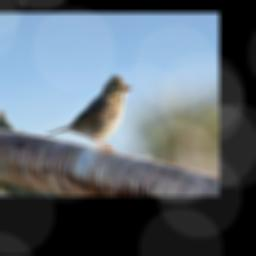Sparrow: (45, 74, 133, 151)
